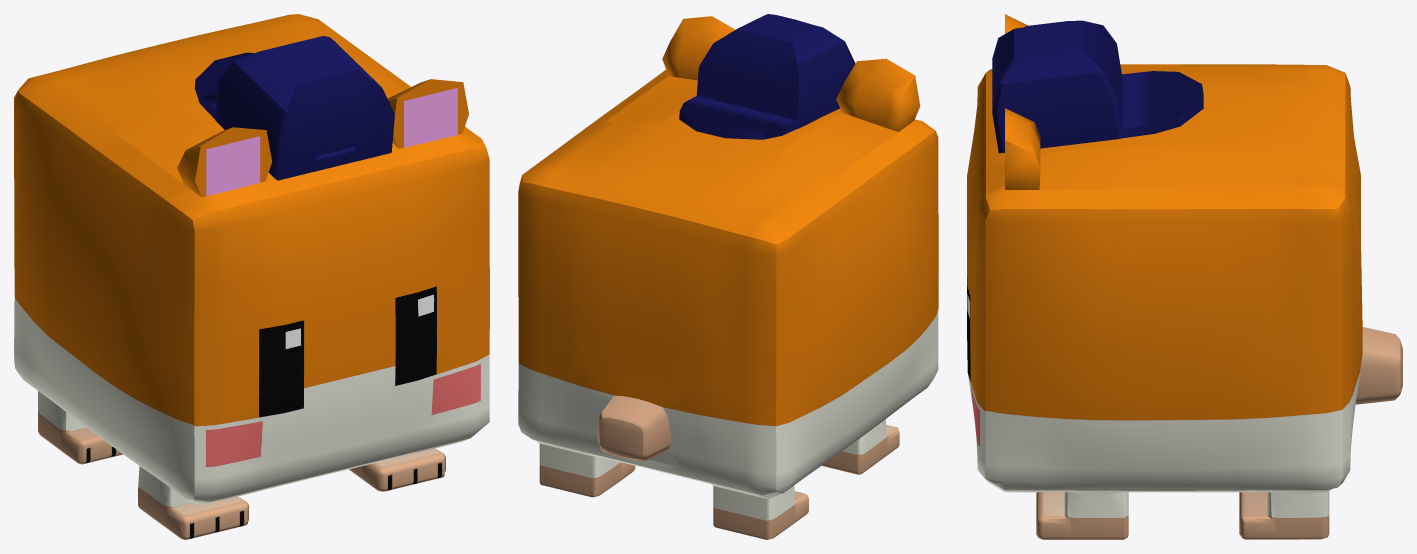
Rendered from CapBackIdle.fbx.
3 views of the same model, side by side, from view 1: azimuth 30°, elevation 25°; view 2: azimuth 150°, elevation 25°; view 3: azimuth 270°, elevation 25° (orthographic). The views are drawn at different scales.
Parts seen in each view (by area): view 1: CAP:pCube9; view 2: CAP:pCube9; view 3: CAP:pCube9.
Part boxes in pixels (bbox=[...]): CAP:pCube9: bbox=[14, 14, 489, 539]; CAP:pCube9: bbox=[518, 14, 938, 539]; CAP:pCube9: bbox=[967, 14, 1402, 539].
Size of the model in its own units: 4.23 by 5.46 by 4.81.
